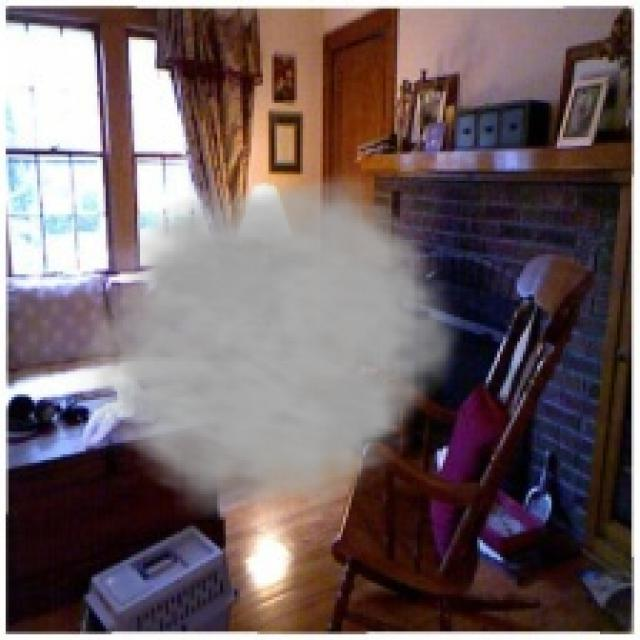smoke: (66, 160, 471, 520)
